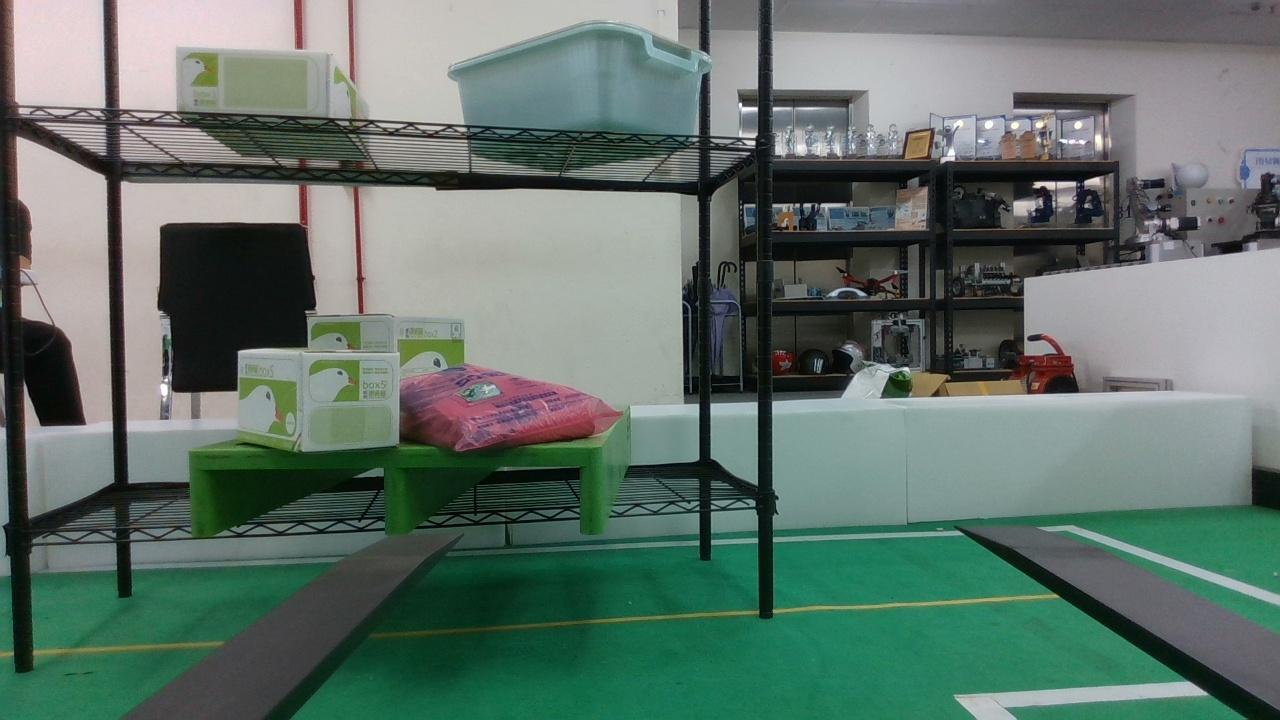Pallet: (189, 445, 605, 539)
